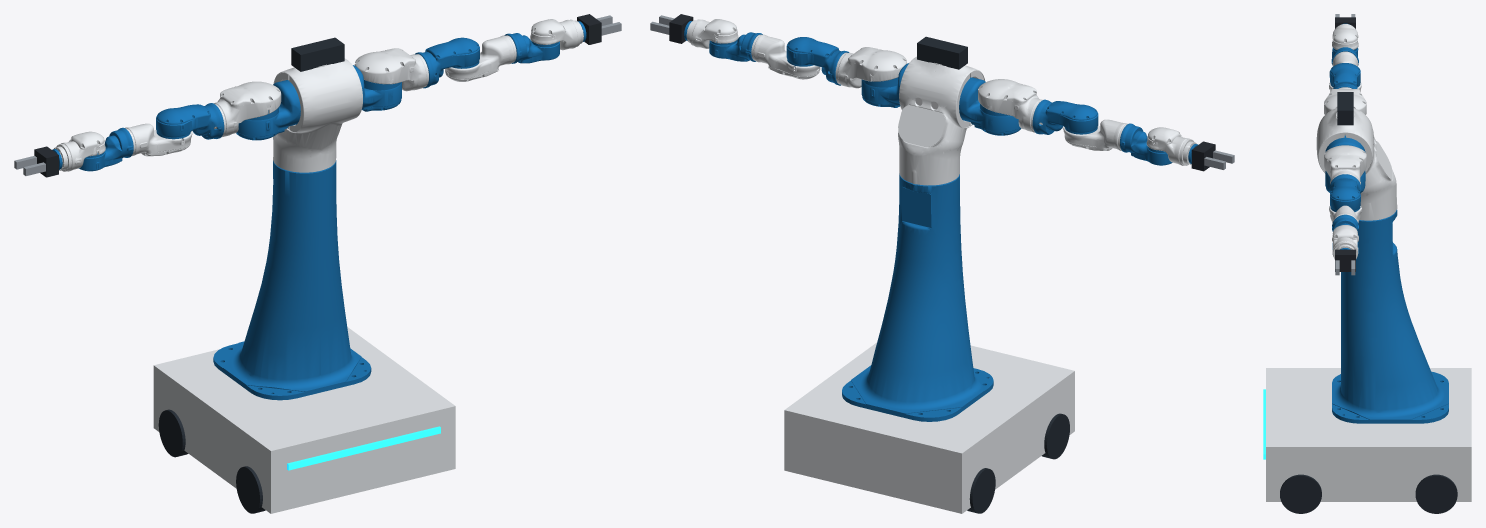
The model's file is sda10f.glb.
3 views of the same model, side by side, from view 1: azimuth 30°, elevation 25°; view 2: azimuth 150°, elevation 25°; view 3: azimuth 270°, elevation 25° (orthographic). The views are drawn at different scales.
Visible parts, largest first — view 1: MobileBase, base, link_b1, link_l, link_l.001, link_e.001, link_s.001, link_e, link_u, CustomHeadCamera, link_u.001, link_b (+7 smaller); view 2: MobileBase, base, link_b1, link_l, link_l.001, link_e.001, link_s.001, link_e, link_u, link_u.001, CustomHeadCamera, link_b (+6 smaller); view 3: MobileBase, base, link_b1, Wheel.001, Wheel.003, link_l, link_e, link_e.001, link_b, link_l.001, link_b.001, CustomHeadCamera (+5 smaller).
Part boxes in pixels (x1=…): MobileBase: x1=153, y1=327, x2=455, y2=513; base: x1=213, y1=160, x2=371, y2=400; link_b1: x1=273, y1=58, x2=362, y2=172; link_l: x1=354, y1=48, x2=428, y2=91; link_l.001: x1=214, y1=81, x2=281, y2=136; link_e.001: x1=156, y1=103, x2=224, y2=139; link_s.001: x1=236, y1=80, x2=300, y2=140; link_e: x1=415, y1=37, x2=479, y2=88; link_u: x1=445, y1=35, x2=516, y2=81; CustomHeadCamera: x1=291, y1=37, x2=344, y2=71; link_u.001: x1=125, y1=123, x2=192, y2=156; link_b: x1=530, y1=19, x2=583, y2=50; MobileBase: x1=784, y1=342, x2=1074, y2=513; base: x1=842, y1=173, x2=993, y2=421; link_b1: x1=898, y1=56, x2=984, y2=185; link_l: x1=835, y1=47, x2=906, y2=88; link_l.001: x1=978, y1=79, x2=1042, y2=132; link_e.001: x1=1032, y1=99, x2=1098, y2=134; link_s.001: x1=959, y1=77, x2=1021, y2=135; link_e: x1=786, y1=37, x2=849, y2=85; link_u: x1=751, y1=34, x2=820, y2=79; link_u.001: x1=1063, y1=119, x2=1127, y2=150; CustomHeadCamera: x1=917, y1=36, x2=967, y2=69; link_b: x1=686, y1=19, x2=738, y2=48; MobileBase: x1=1266, y1=368, x2=1471, y2=501; base: x1=1332, y1=210, x2=1448, y2=423; link_b1: x1=1316, y1=108, x2=1397, y2=220; Wheel.001: x1=1415, y1=474, x2=1457, y2=513; Wheel.003: x1=1280, y1=474, x2=1321, y2=513; link_l: x1=1324, y1=145, x2=1366, y2=184; link_e: x1=1329, y1=174, x2=1361, y2=211; link_e.001: x1=1329, y1=63, x2=1360, y2=88; link_b: x1=1332, y1=225, x2=1358, y2=259; link_l.001: x1=1324, y1=87, x2=1366, y2=114; link_b.001: x1=1332, y1=24, x2=1358, y2=49; CustomHeadCamera: x1=1337, y1=92, x2=1353, y2=125.
Bounding box in the file's own units: 2.58 × 1.75 × 0.891.
